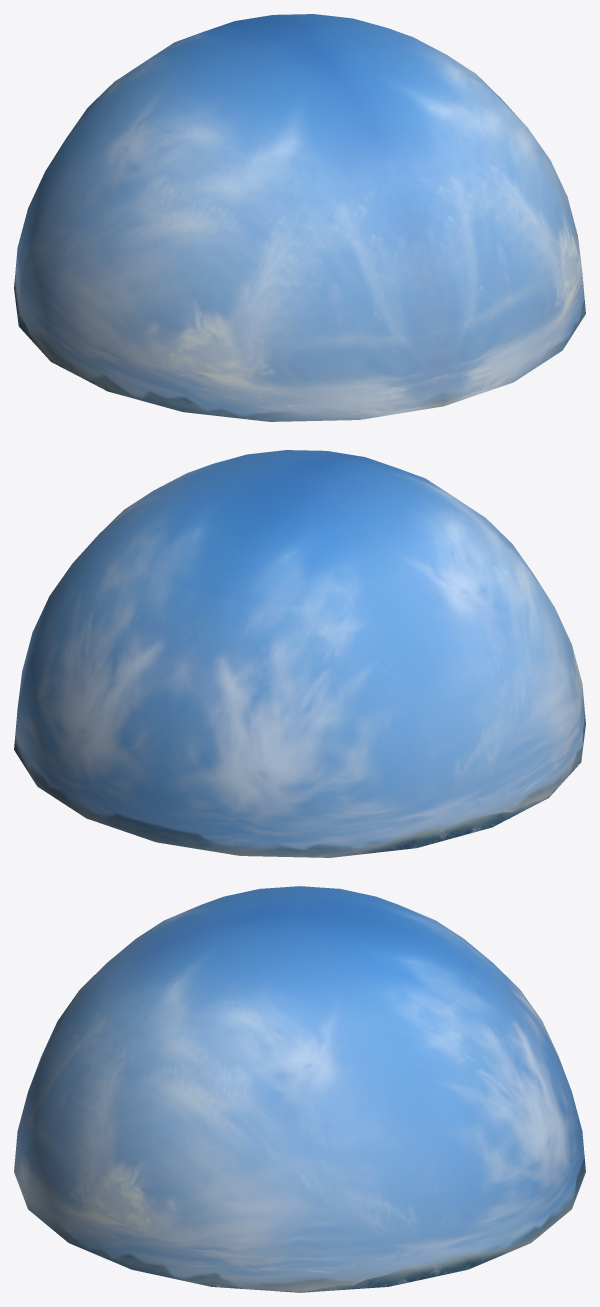
File: sky.obj
3 renders of one model, top to bottom at view 1: azimuth 30°, elevation 25°; view 2: azimuth 150°, elevation 25°; view 3: azimuth 270°, elevation 25°, orthographic.
Bounding box in the file's own units: 40000 × 20000 × 40000.
1 material, 1 textured.
